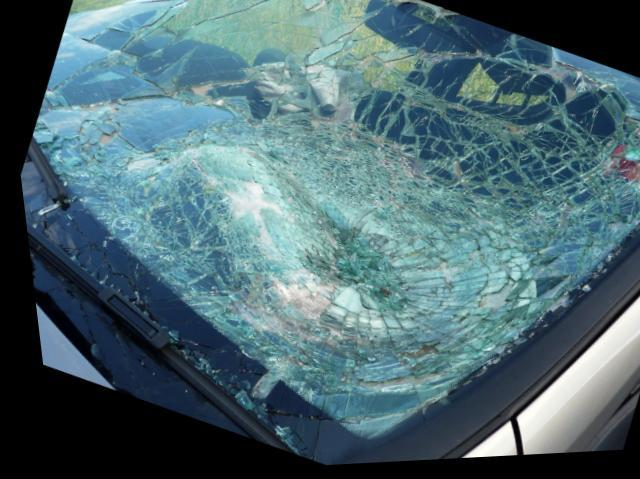glass shatter: (16, 0, 640, 468)
